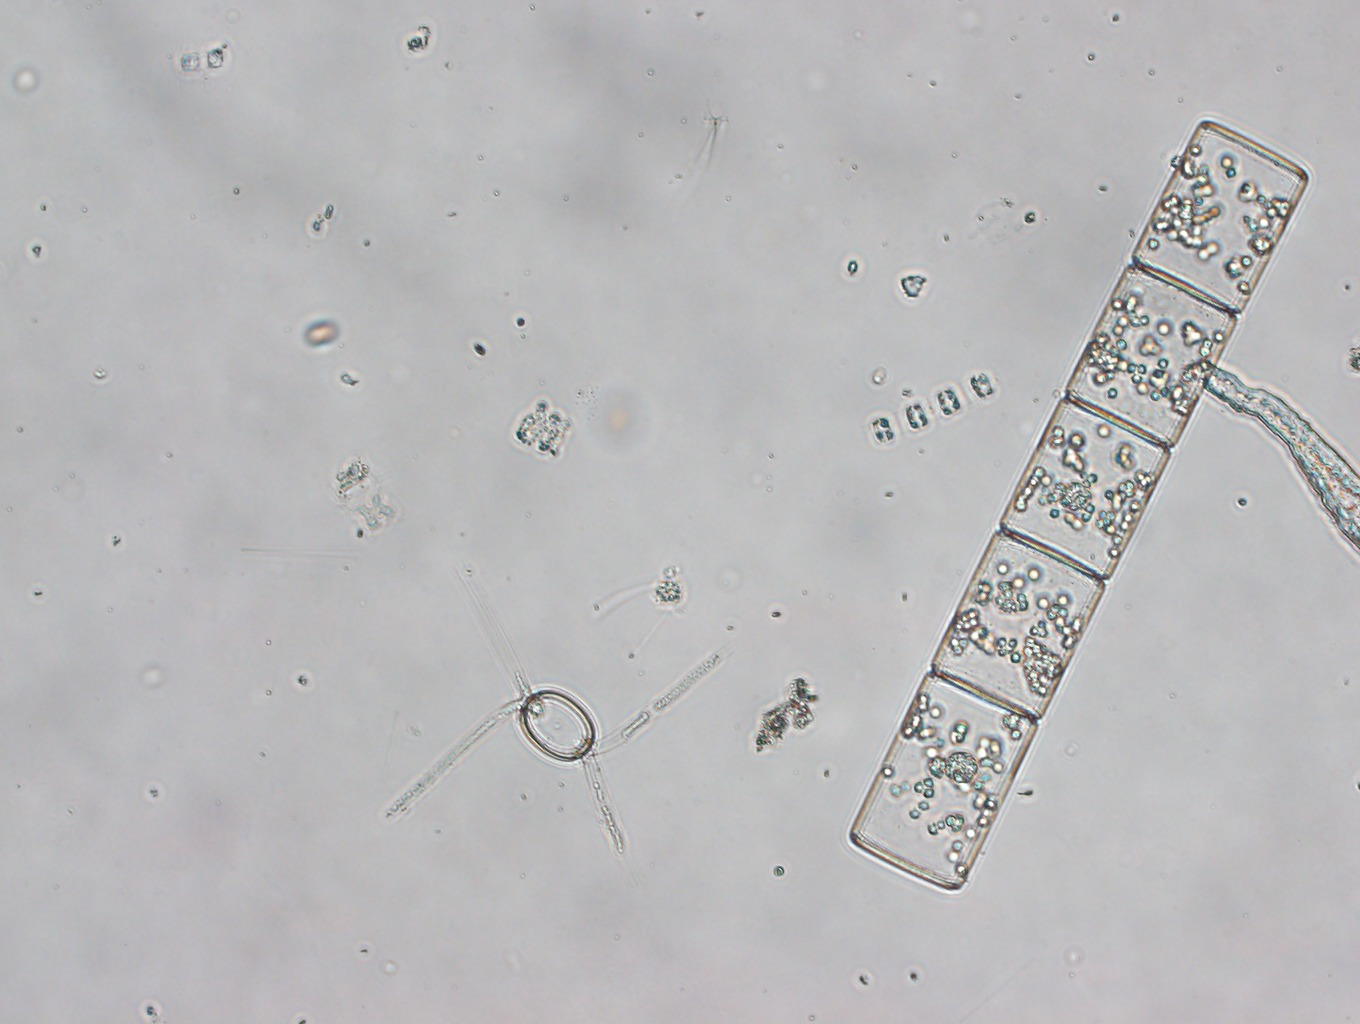chaetoceros: (373, 552, 740, 862)
guinardia flaccida: (839, 105, 1313, 906)
skeletonema: (856, 364, 1014, 450)
